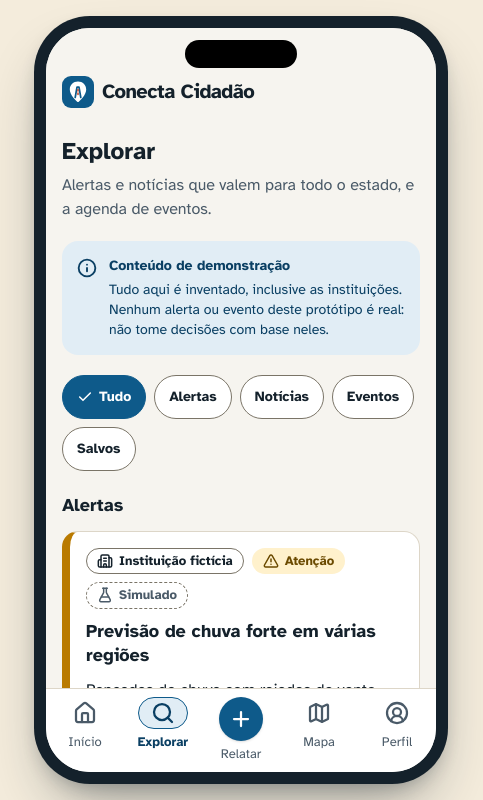
Test case: Estado como visitante › "Salvos" explica que é preciso entrar
Step 1. Click the button "Salvos" → x=99, y=449, box x1=62 y1=427 x2=136 y2=471
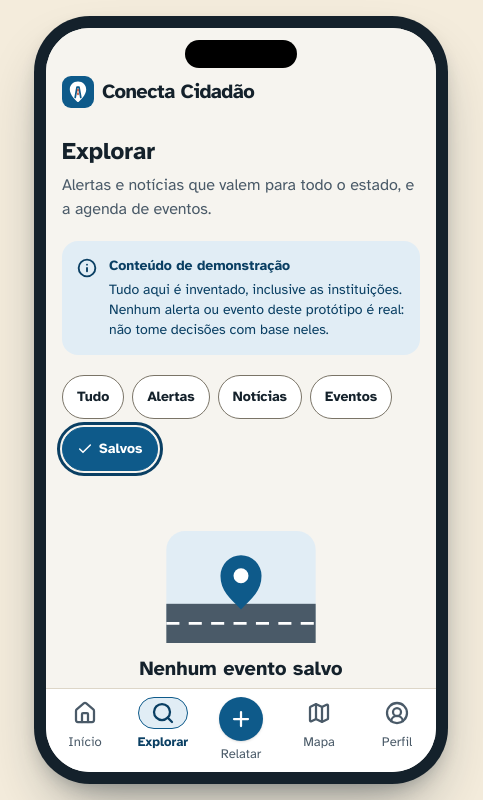
Check: the heading "Nenhum evento salvo" is shown, box x1=139 y1=655 x2=342 y2=683
